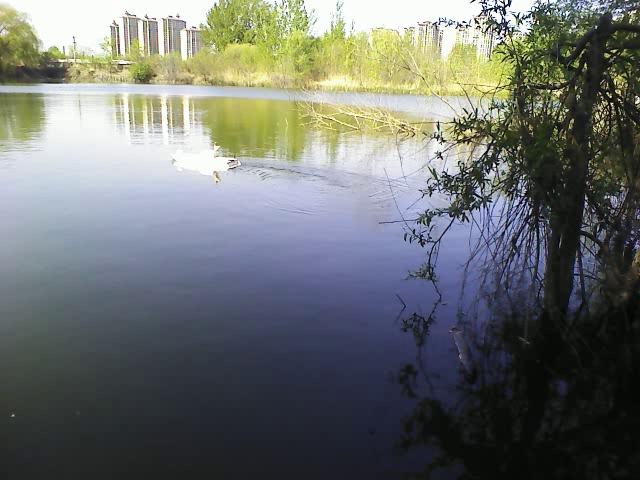boat: (172, 148, 242, 177)
